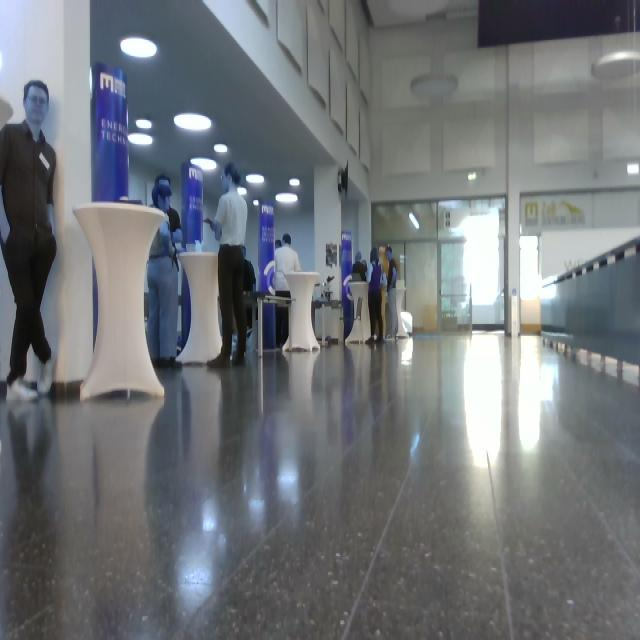door: (405, 241, 439, 333)
light bulb: (591, 50, 640, 81), (411, 73, 459, 100), (120, 36, 158, 58), (174, 113, 212, 132), (1, 96, 14, 132), (191, 157, 217, 172), (128, 133, 153, 146), (275, 193, 298, 204), (409, 212, 420, 230), (246, 174, 265, 184), (136, 118, 153, 129), (214, 144, 228, 154), (289, 179, 300, 187)
person: (1, 80, 58, 402), (203, 162, 249, 369), (147, 174, 183, 368), (274, 233, 302, 348), (366, 248, 385, 344)
pillar: (73, 201, 168, 401)
tiled floor: (1, 329, 639, 638)
